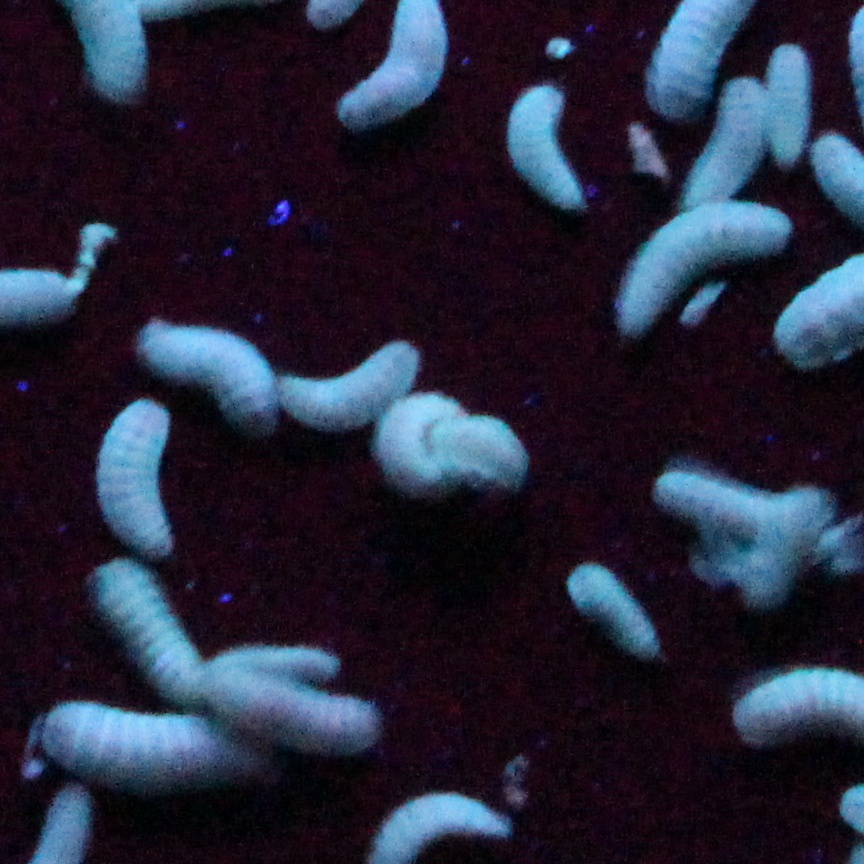larve: (611, 204, 798, 340), (656, 488, 850, 588), (216, 661, 390, 754), (96, 554, 196, 708), (50, 708, 256, 781), (287, 328, 423, 431), (96, 401, 176, 561), (678, 65, 762, 217), (395, 388, 517, 491), (136, 328, 270, 414), (570, 568, 670, 668), (503, 94, 576, 221), (766, 49, 801, 178)
